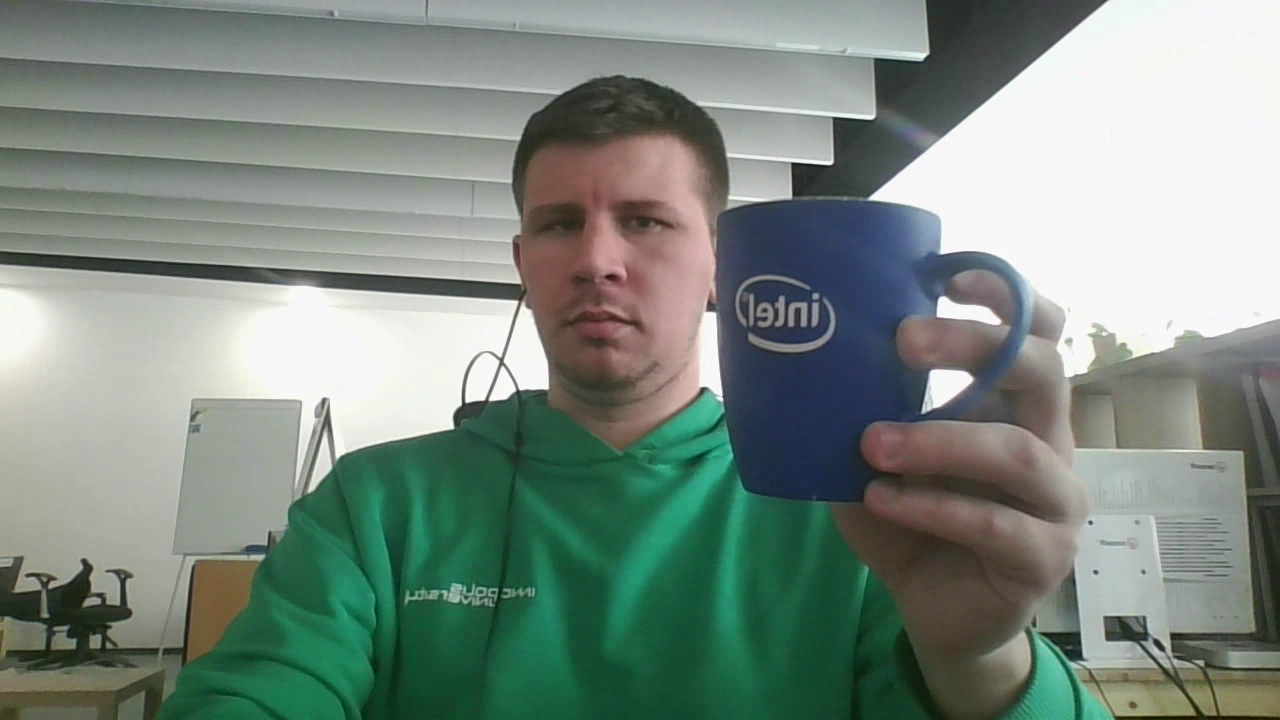cup: (717, 199, 1037, 508)
